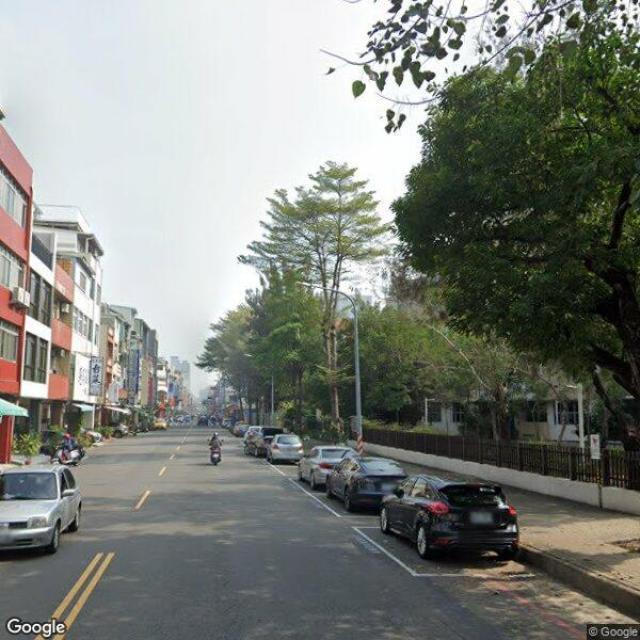Legalparking: (253, 428, 517, 558)
illegalparking: (0, 466, 81, 552)
